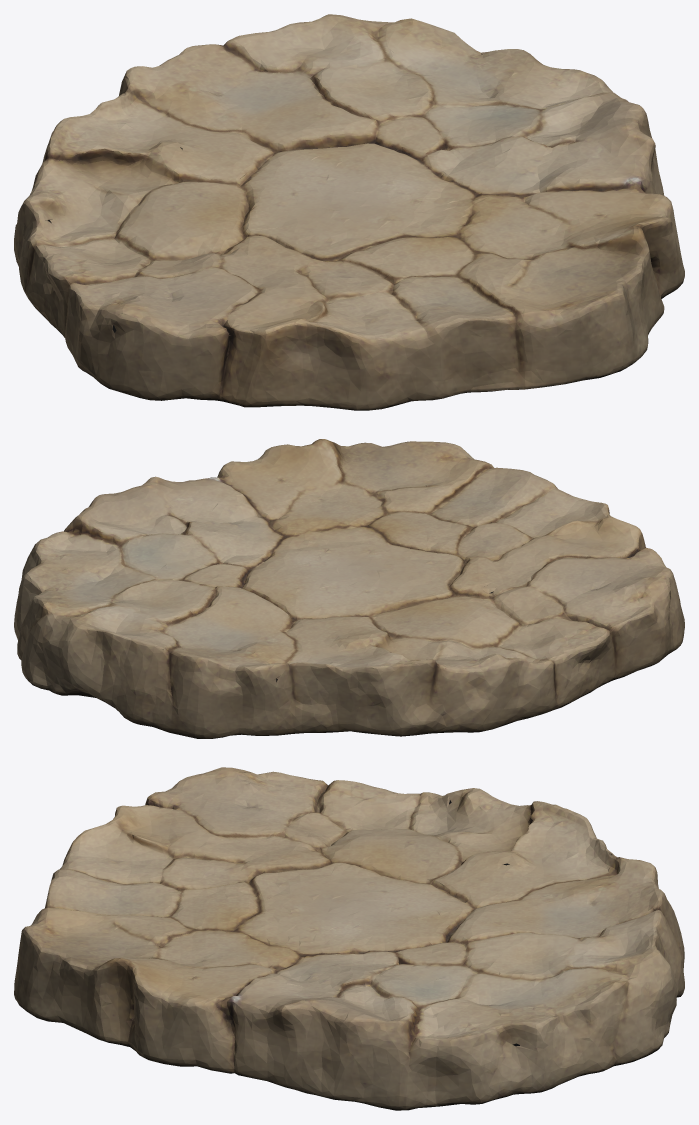
Rendered from island-desiccation-crack-surface-vault.glb.
3 views of the same model, one above another, from view 1: azimuth 30°, elevation 25°; view 2: azimuth 150°, elevation 25°; view 3: azimuth 270°, elevation 25° (orthographic). The views are drawn at different scales.
Visible parts, largest first — view 1: geometry_0; view 2: geometry_0; view 3: geometry_0.
Part boxes in pixels (box(x1,y1,x2,y2)): geometry_0: box(14, 14, 684, 410); geometry_0: box(14, 439, 684, 738); geometry_0: box(14, 767, 684, 1110).
Bounding box in the file's own units: 0.9868 × 0.1386 × 0.9891.
Materials: 2 (2 with a texture image).
